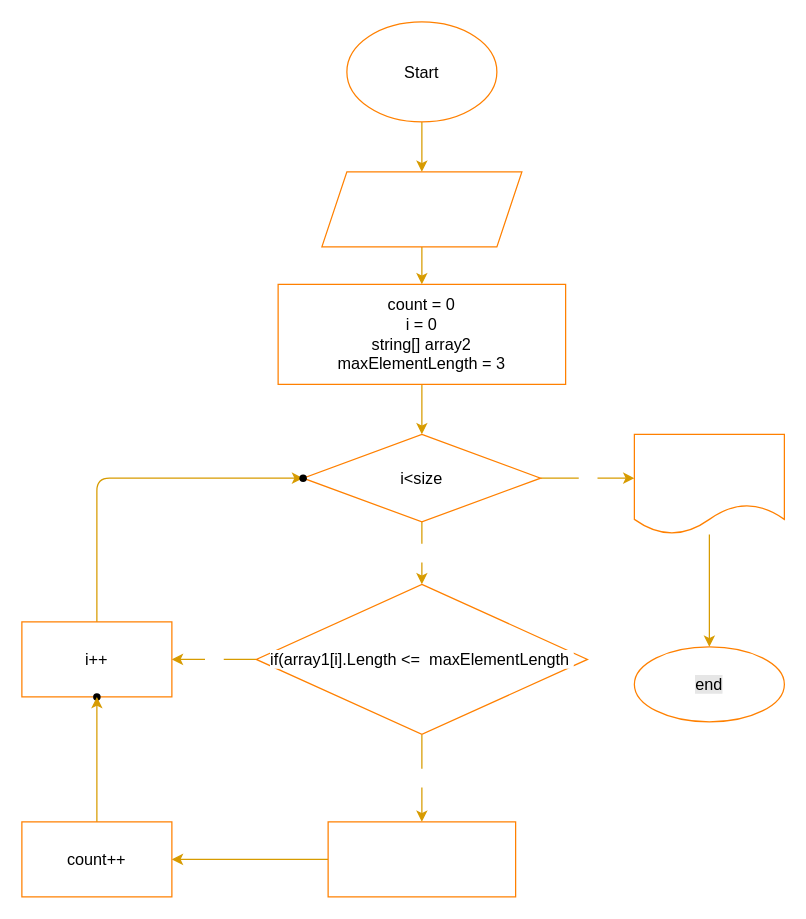
This 806x919 diagram has some shape labels left out. Here are the shapes that lost their labels. From the top down, the centre of each, then its label:
At [421,209]: "string[] array1 size = array1.Length".
At [708,483]: "print array1 print array2".
At [421,859]: "array2[count] = array1[i]".
